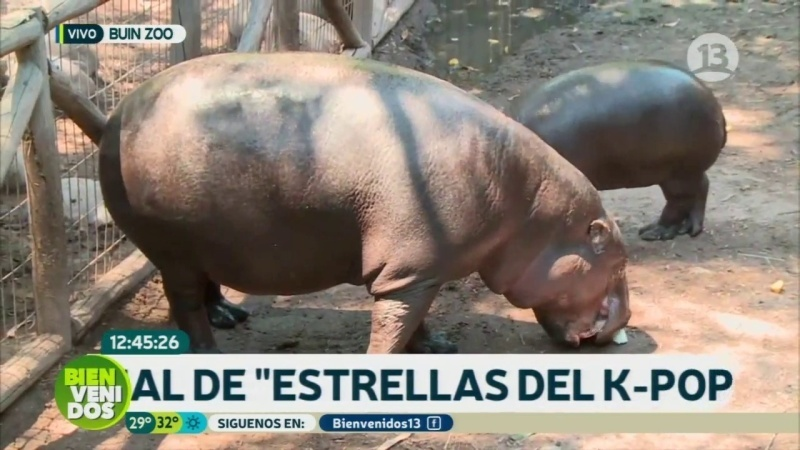hipopotamo: (95, 42, 650, 352), (494, 36, 729, 257)
